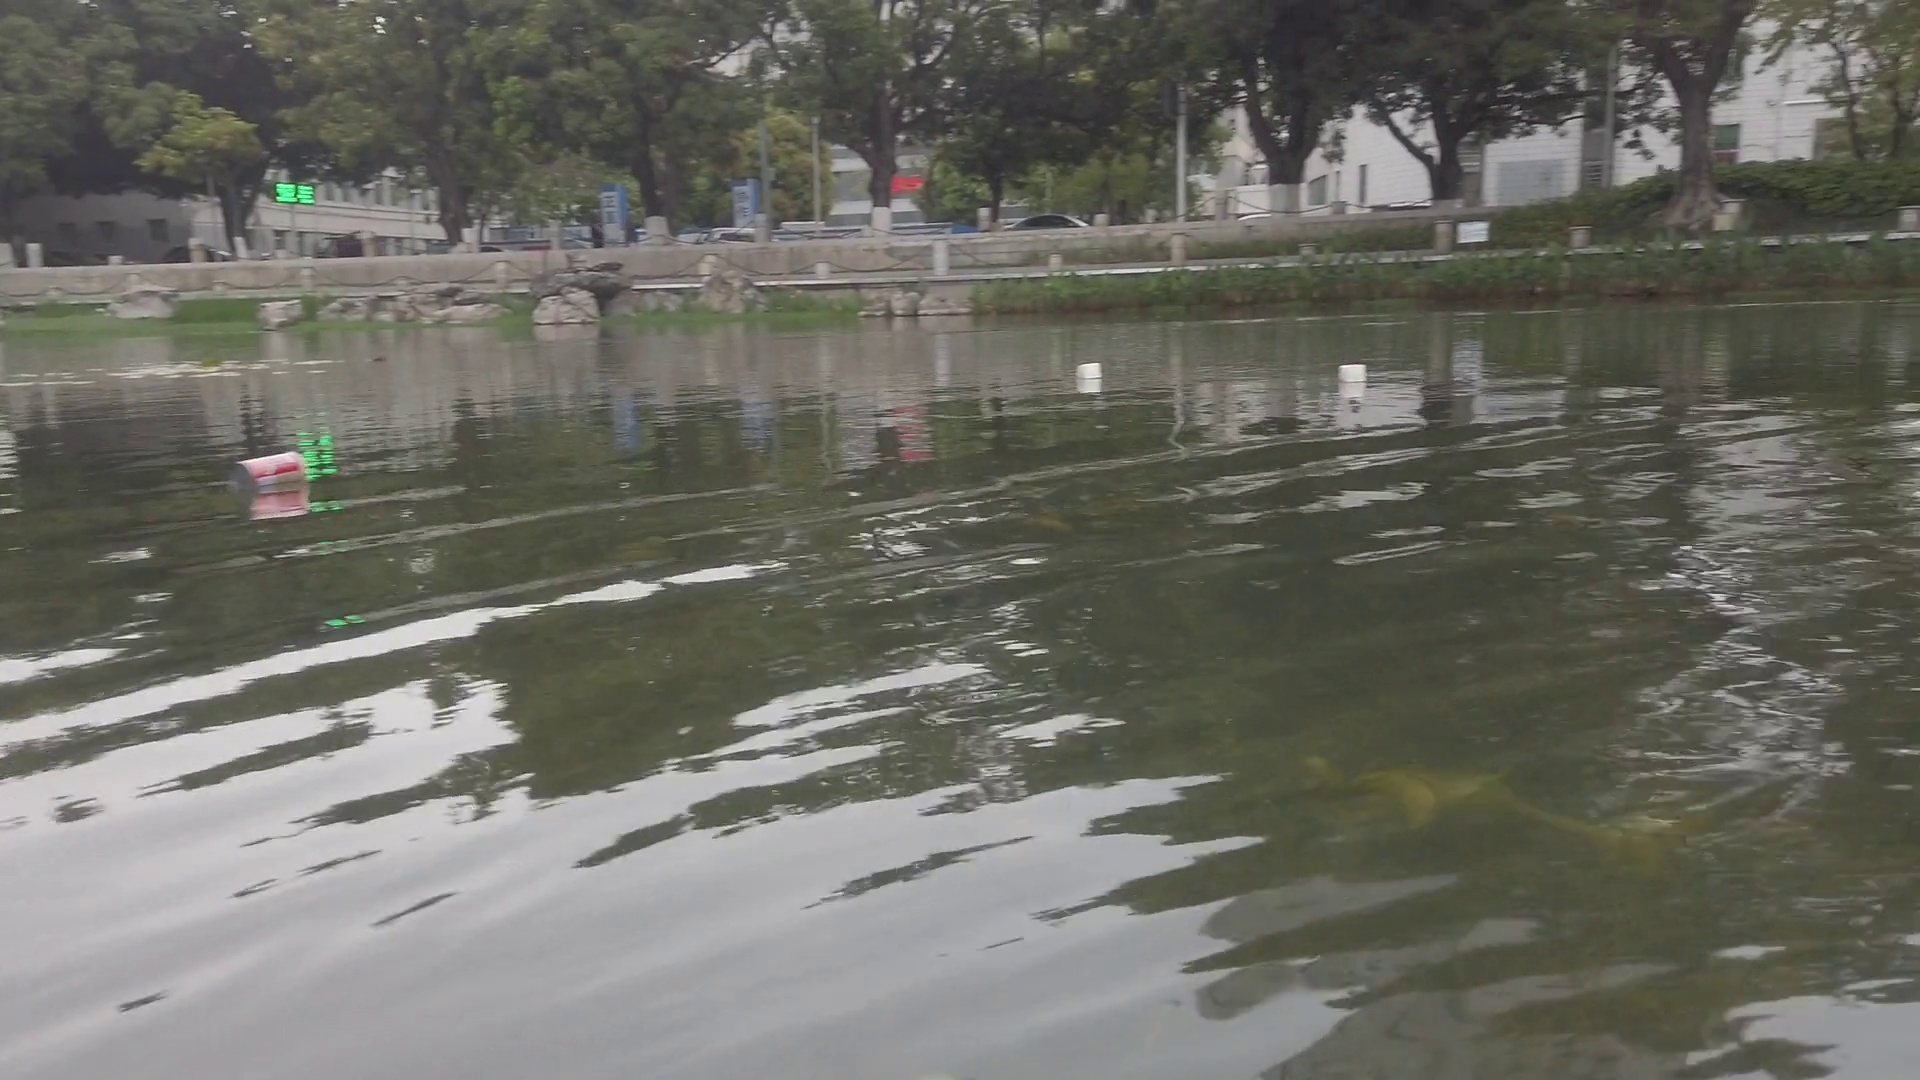bottle: (237, 458, 311, 492)
carton: (1337, 363, 1364, 385), (1075, 364, 1104, 382)
